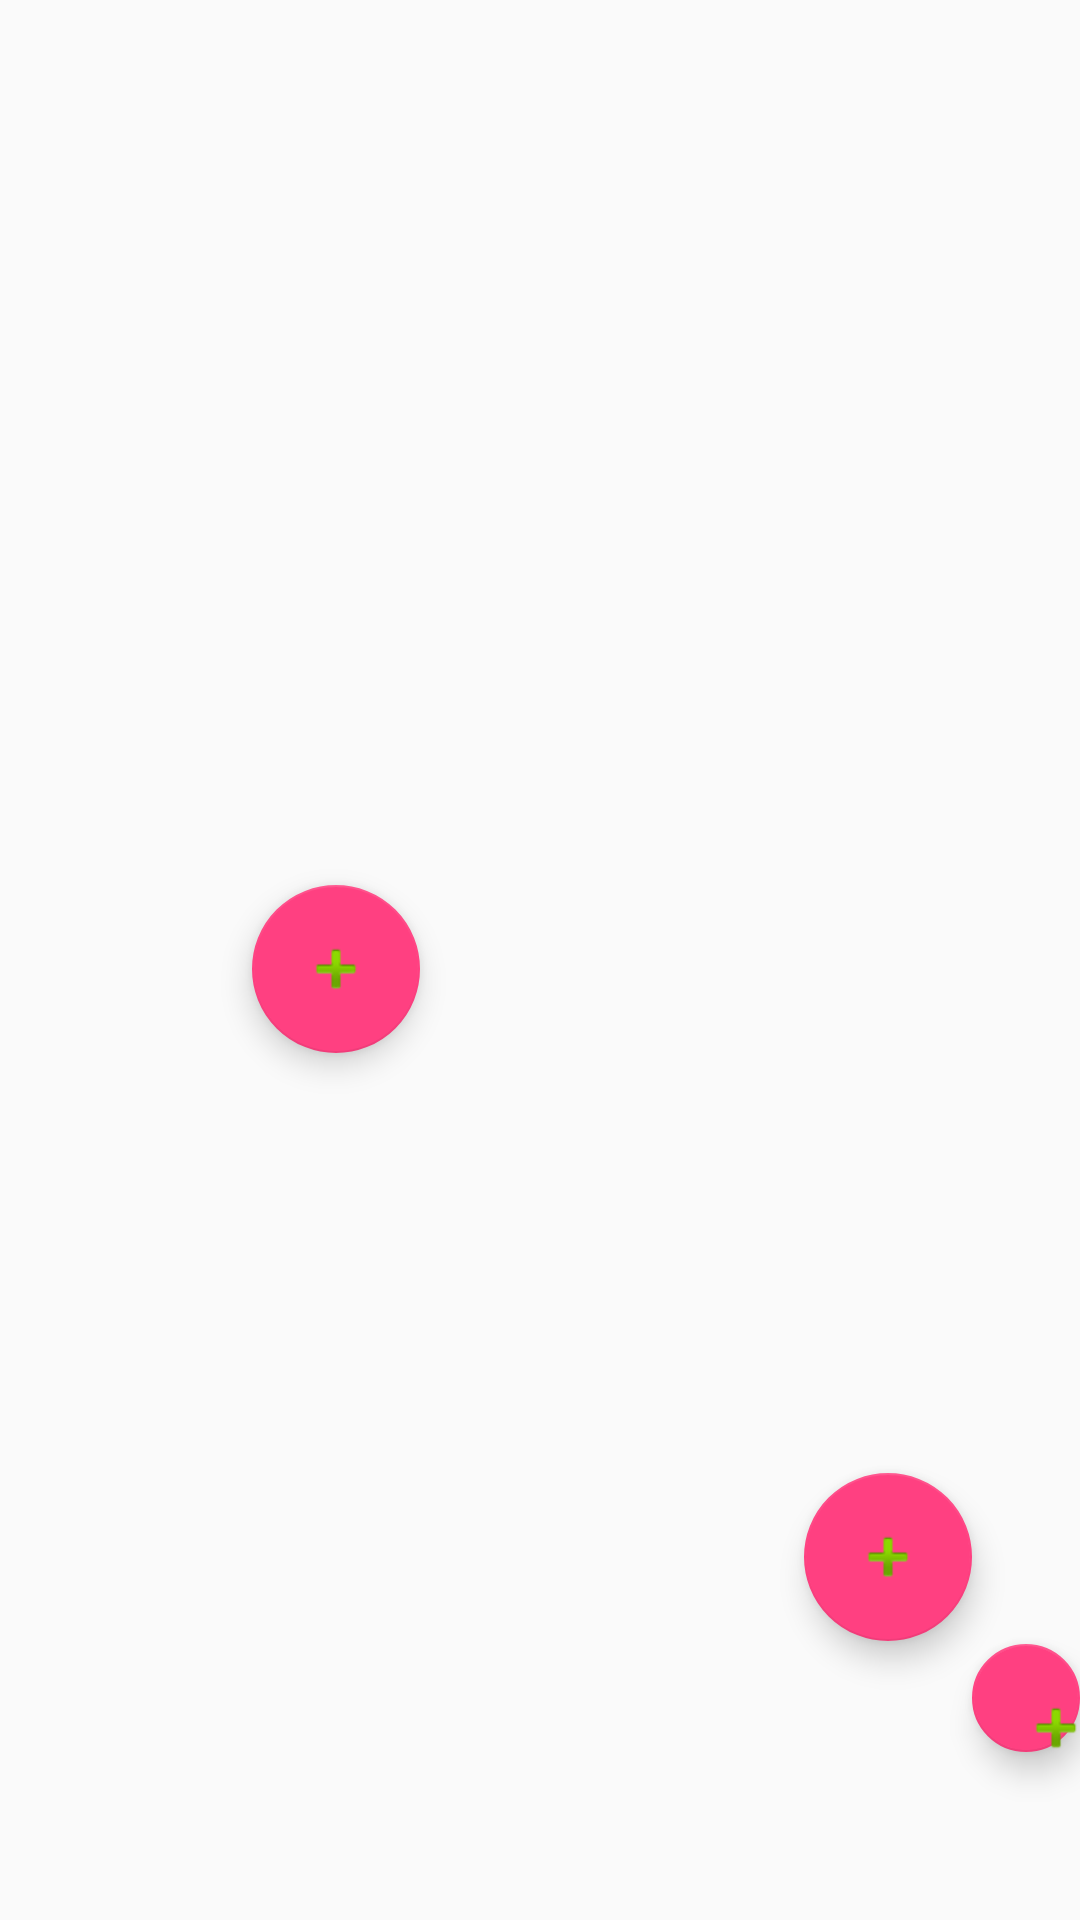

Icon click points for this 1080w x 1920h phone screenshot, format (x,y):
add: (336,969), (888,1557), (1026,1698)
